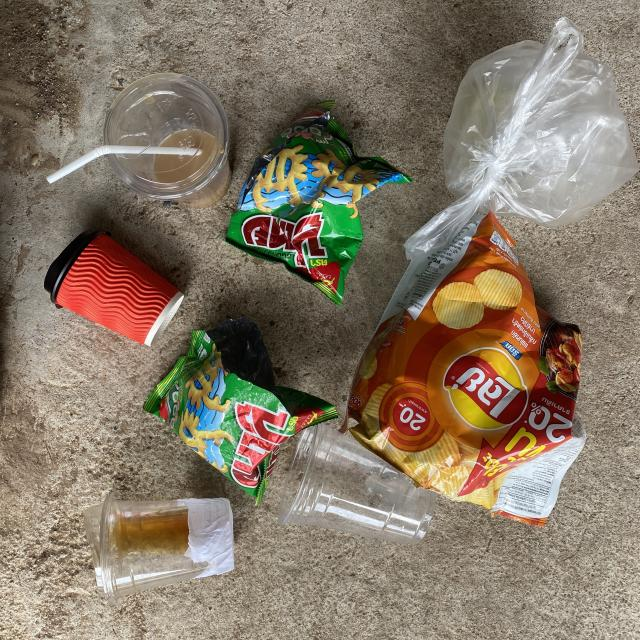Single-layer Plastic: (405, 18, 639, 260)
